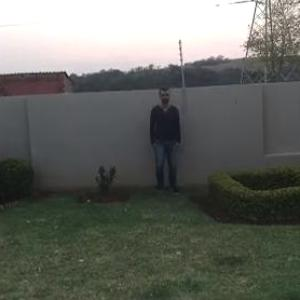follow: (148, 82, 182, 197)
